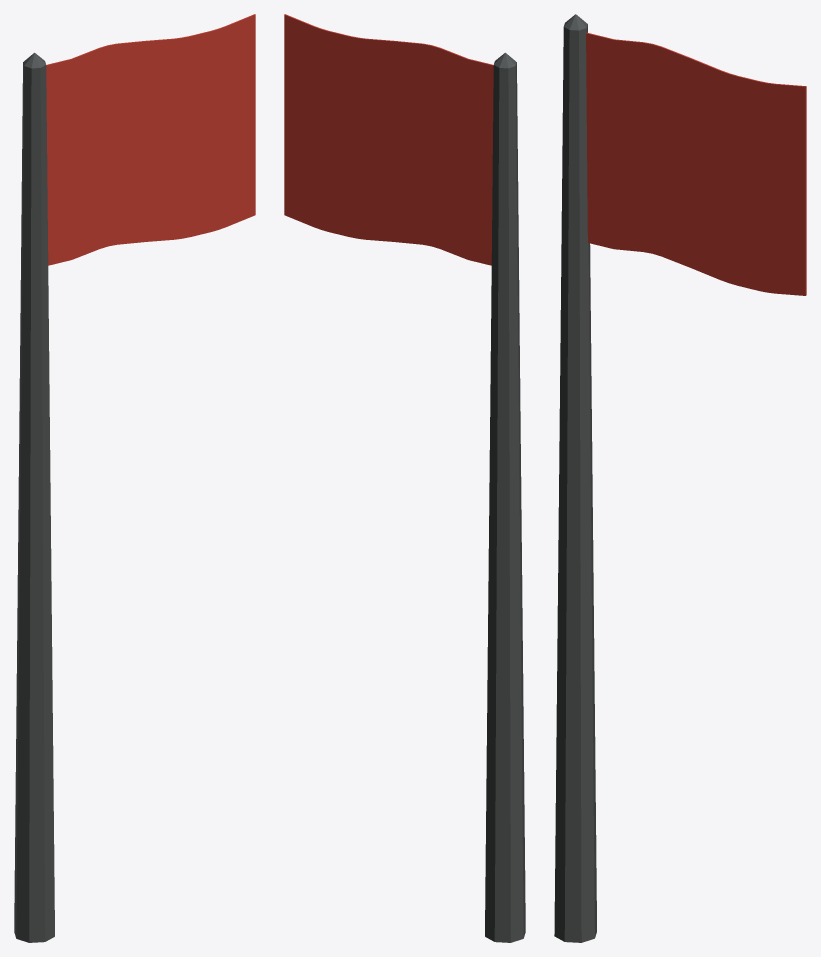
Rendered from flag.fbx.
The picture shows the model from 3 angles, left to right: view 1: azimuth 30°, elevation 25°; view 2: azimuth 150°, elevation 25°; view 3: azimuth 330°, elevation 25°; orthographic projection. The views are drawn at different scales.
Parts seen in each view (by area): view 1: flag; view 2: flag; view 3: flag.
Boxes of the visible parts, x1,y1,x2,y2 form: flag: (14,14,255,942); flag: (284,14,525,942); flag: (554,14,806,942).
Size of the model in its own units: 0.5781 by 2.04 by 0.0887.
